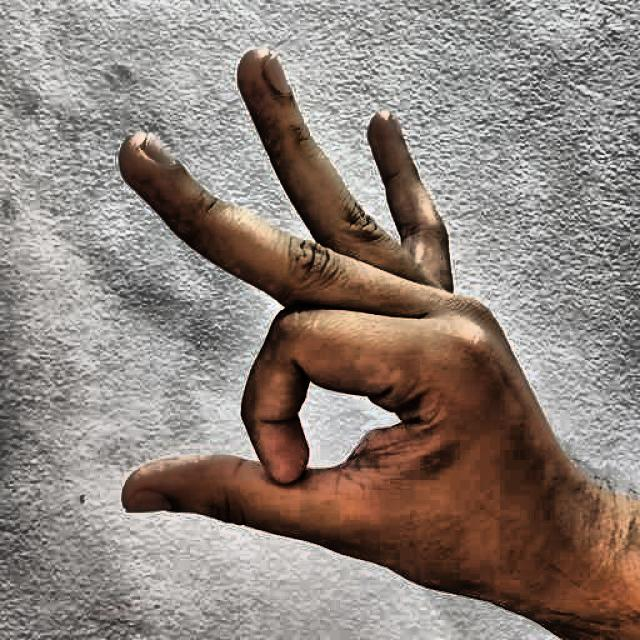Uo: (55, 22, 592, 629)
